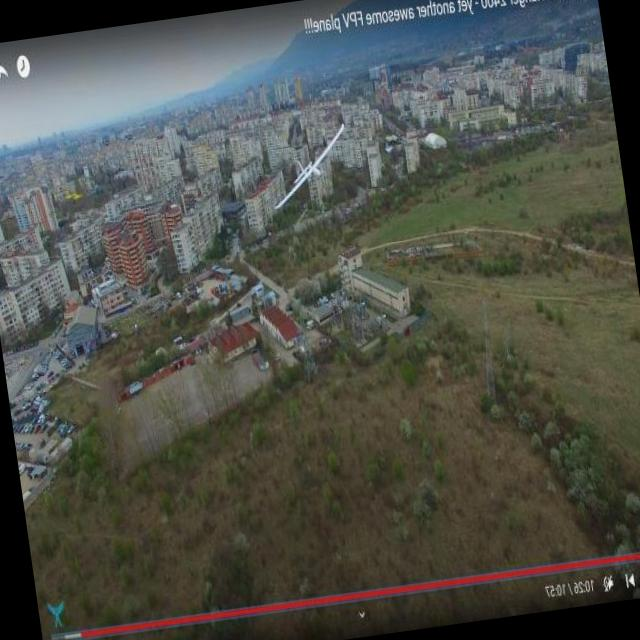UAV: (258, 104, 359, 206)
